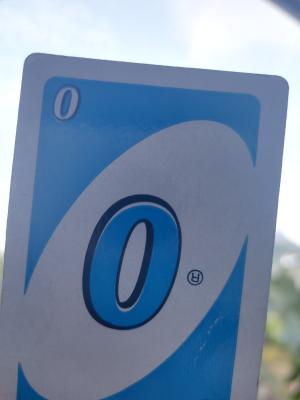blue: (36, 81, 237, 395)
num_0: (46, 80, 83, 124)
